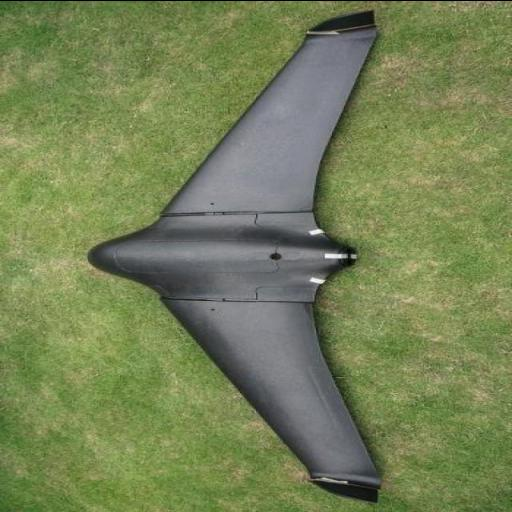uav: (86, 7, 416, 505)
